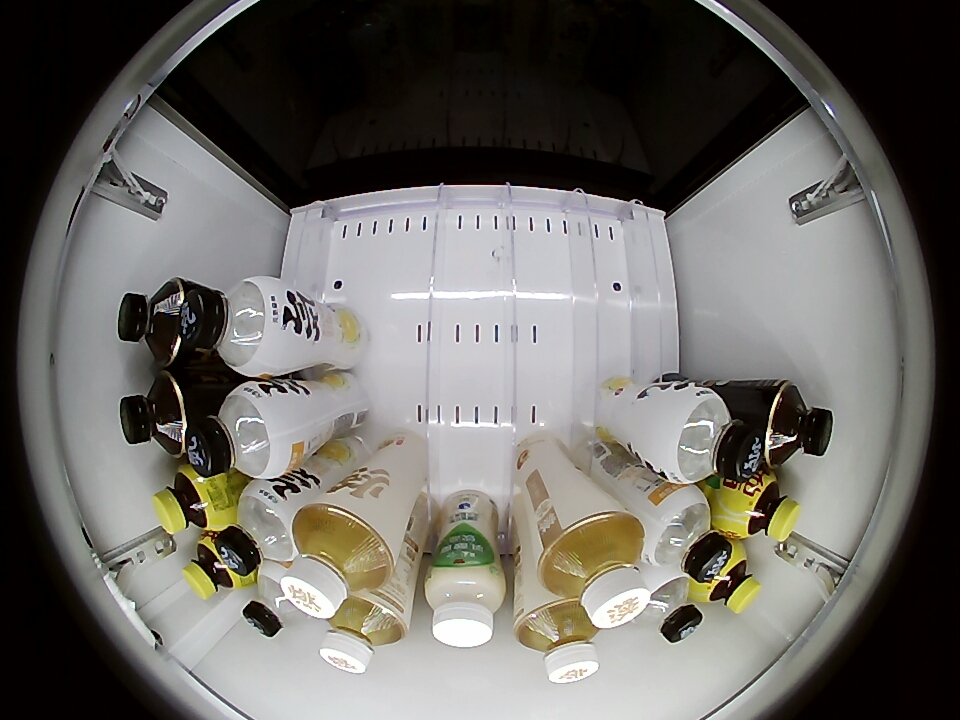rancha-1: (117, 278, 190, 367), (762, 382, 834, 468), (119, 371, 188, 456)
rancha-2: (532, 509, 650, 629), (281, 501, 397, 619), (515, 598, 601, 684), (321, 593, 408, 675)
weitaningmeng-bottle: (724, 471, 802, 543), (153, 464, 229, 534), (697, 547, 762, 614), (183, 533, 248, 600)
yousuanru: (425, 559, 506, 648)
yuanqishui: (650, 384, 764, 484), (179, 276, 290, 377), (185, 381, 295, 480), (637, 484, 731, 582), (215, 480, 305, 574), (629, 568, 702, 643), (244, 561, 308, 637)
